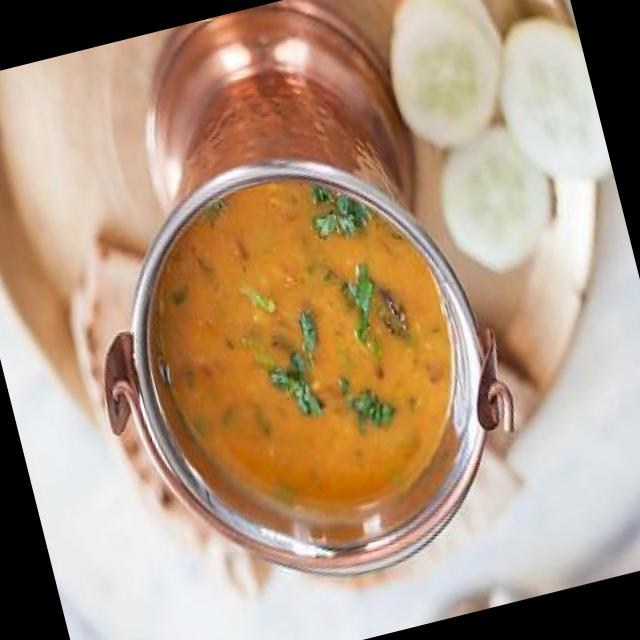dal: (122, 141, 489, 562)
